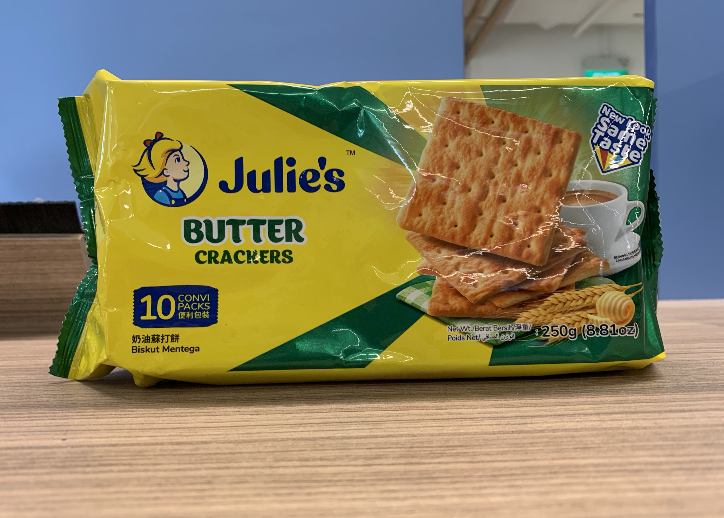crackers_150g: (115, 96, 653, 356)
